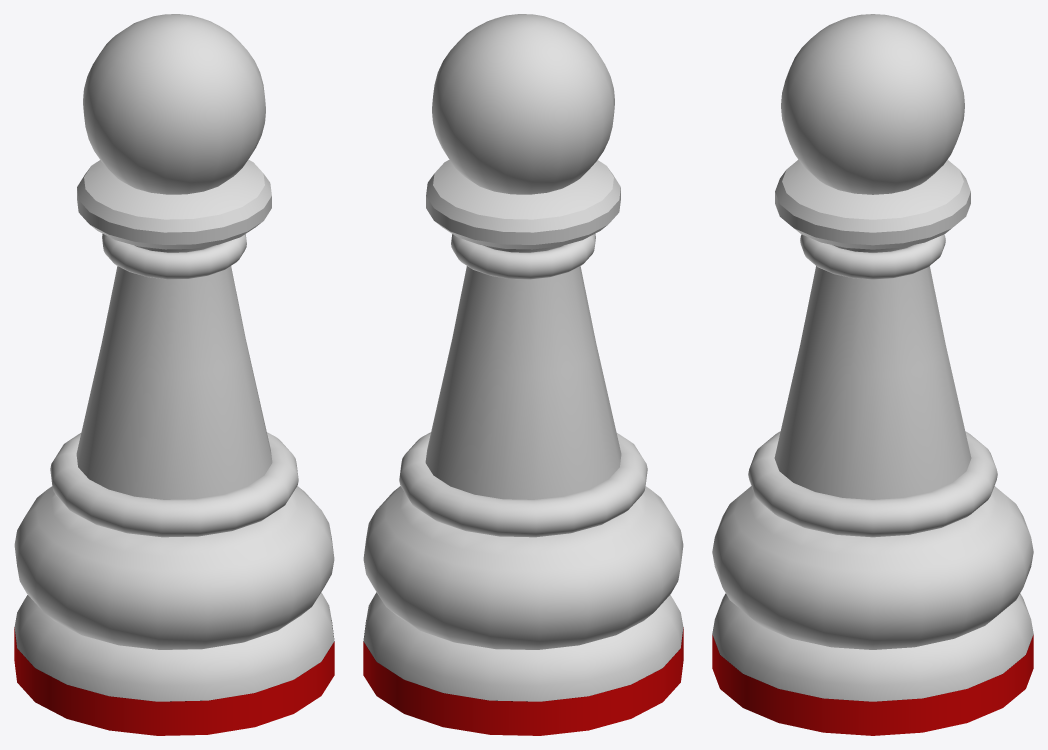
File: PawnModel.fbx
3 views of the same model, side by side, from view 1: azimuth 30°, elevation 25°; view 2: azimuth 150°, elevation 25°; view 3: azimuth 270°, elevation 25° (orthographic).
Parts seen in each view (by area): view 1: PawnTrunk, PawnRing0, PawnTop, PawnBase1, PawnCap, PawnBase0, PawnRing1, PawnRing2; view 2: PawnTrunk, PawnRing0, PawnTop, PawnBase1, PawnCap, PawnBase0, PawnRing1, PawnRing2; view 3: PawnTrunk, PawnRing0, PawnTop, PawnBase1, PawnCap, PawnBase0, PawnRing1, PawnRing2.
Part boxes in pixels (bbox=[...]): PawnTrunk: bbox=[76, 245, 272, 499]; PawnRing0: bbox=[14, 486, 334, 649]; PawnTop: bbox=[83, 14, 265, 194]; PawnBase1: bbox=[14, 592, 334, 701]; PawnCap: bbox=[77, 159, 271, 249]; PawnBase0: bbox=[14, 620, 334, 735]; PawnRing1: bbox=[50, 432, 298, 537]; PawnRing2: bbox=[102, 234, 246, 279]; PawnTrunk: bbox=[425, 245, 621, 499]; PawnRing0: bbox=[363, 486, 683, 649]; PawnTop: bbox=[432, 14, 614, 194]; PawnBase1: bbox=[363, 592, 683, 701]; PawnCap: bbox=[426, 159, 620, 249]; PawnBase0: bbox=[363, 620, 683, 735]; PawnRing1: bbox=[399, 432, 647, 537]; PawnRing2: bbox=[451, 234, 595, 279]; PawnTrunk: bbox=[774, 245, 971, 499]; PawnRing0: bbox=[712, 486, 1033, 649]; PawnTop: bbox=[781, 14, 964, 194]; PawnBase1: bbox=[712, 593, 1033, 701]; PawnCap: bbox=[775, 159, 970, 249]; PawnBase0: bbox=[712, 634, 1033, 735]; PawnRing1: bbox=[748, 431, 997, 537]; PawnRing2: bbox=[800, 234, 945, 279].
Bounding box in the file's own units: 2.52 × 5.58 × 2.52.
